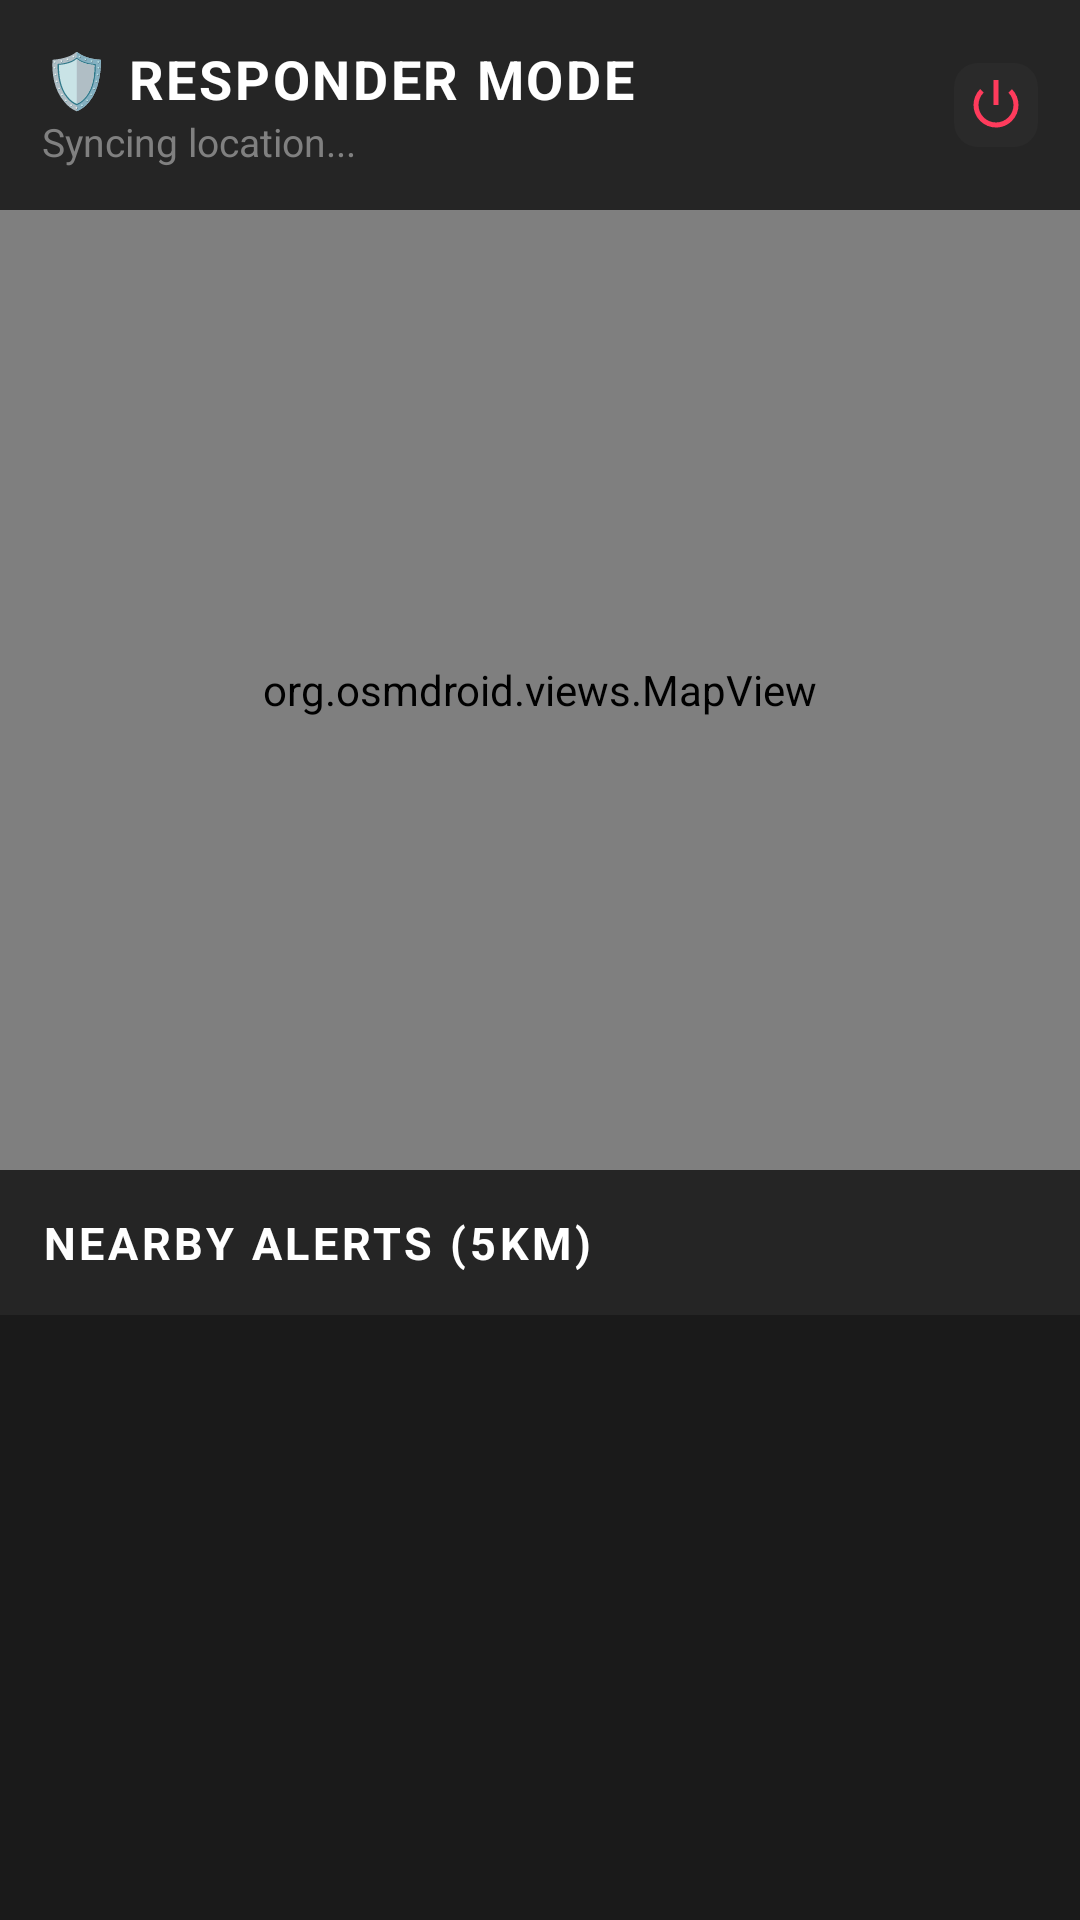

Where icons sit on this 1080×1920 app screen, as BBox(x1, y1, x2, y2):
lock power off: BBox(973, 80, 1019, 128)
